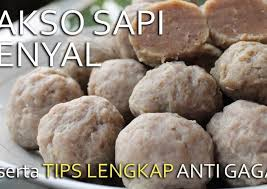bakso: (13, 9, 267, 179)
